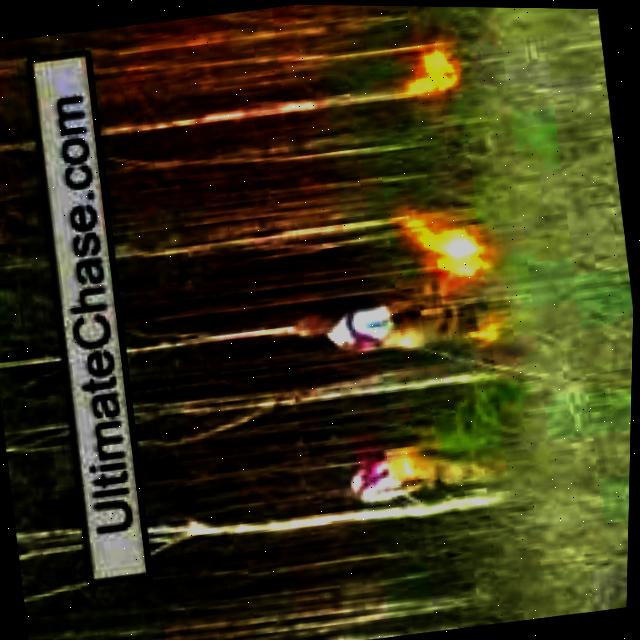Fire: (414, 210, 485, 281), (414, 42, 466, 90), (477, 325, 503, 342)
